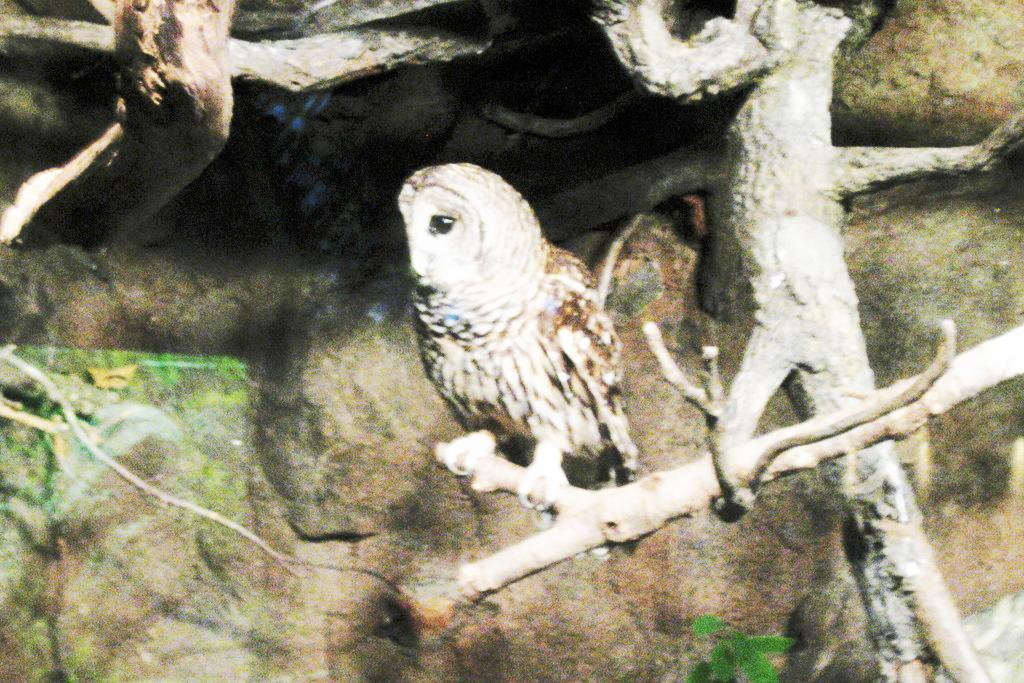Owl: (396, 160, 634, 514)
